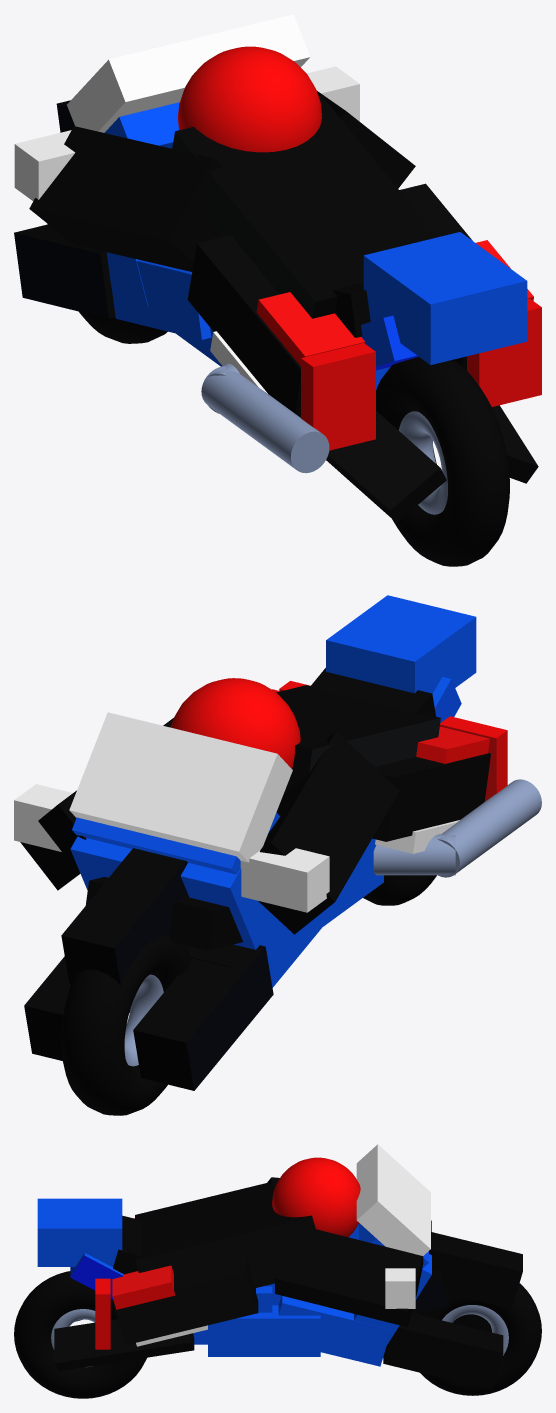
The picture shows the model from 3 angles, top to bottom: view 1: azimuth 30°, elevation 25°; view 2: azimuth 150°, elevation 25°; view 3: azimuth 270°, elevation 25°; orthographic projection. The views are drawn at different scales.
Visible parts, largest first — view 1: mesh_166_2, mesh_77, mesh_169_2, mesh_171, mesh_0_2 (×2), mesh_112, mesh_76_2, mesh_76, mesh_3_4, mesh_3_1_1, mesh_79_3, mesh_82 (+28 smaller); view 2: mesh_112_2, mesh_0, mesh_169_2, mesh_171, mesh_6_2, mesh_3_2, mesh_0_2, mesh_76_2, mesh_166_2, mesh_3_4, mesh_82, mesh_3_1 (×2) (+36 smaller); view 3: mesh_77, mesh_170_2, mesh_166_2, mesh_0_3_1, mesh_171, mesh_166_5, mesh_0, mesh_2_5, mesh_10_5, mesh_6_5, mesh_112_2, mesh_9_5 (+26 smaller).
Boxes of the visible parts, box(x1,y1,x2,y2) form: mesh_166_2: box(175, 95, 437, 301); mesh_77: box(376, 357, 509, 566); mesh_169_2: box(29, 126, 213, 241); mesh_171: box(178, 46, 322, 152); mesh_0_2 (×2): box(187, 183, 472, 413); mesh_112: box(109, 14, 310, 101); mesh_76_2: box(364, 232, 526, 304); mesh_76: box(430, 281, 527, 364); mesh_3_4: box(14, 232, 108, 318); mesh_3_1_1: box(313, 352, 375, 450); mesh_79_3: box(328, 411, 439, 510); mesh_82: box(201, 366, 321, 469); mesh_112_2: box(69, 712, 277, 851); mesh_0: box(61, 936, 191, 1115); mesh_169_2: box(271, 731, 399, 901); mesh_171: box(170, 678, 300, 768); mesh_6_2: box(61, 848, 185, 948); mesh_3_2: box(133, 944, 265, 1042); mesh_0_2: box(386, 753, 490, 841); mesh_76_2: box(326, 595, 475, 661); mesh_166_2: box(276, 685, 440, 749); mesh_3_4: box(186, 947, 273, 1090); mesh_82: box(437, 779, 541, 873); mesh_3_1 (×2): box(133, 724, 496, 1090); mesh_77: box(14, 1271, 146, 1398); mesh_170_2: box(275, 1223, 423, 1311); mesh_166_2: box(135, 1182, 311, 1259); mesh_0_3_1: box(114, 1273, 257, 1344); mesh_171: box(272, 1157, 360, 1237); mesh_166_5: box(135, 1217, 315, 1287); mesh_0: box(418, 1283, 541, 1395); mesh_2_5: box(383, 1328, 503, 1390); mesh_10_5: box(208, 1318, 320, 1356); mesh_6_5: box(429, 1249, 522, 1308); mesh_112_2: box(377, 1144, 430, 1248); mesh_9_5: box(278, 1303, 390, 1366).
Size of the model in its own units: 1.52 by 1.62 by 3.32.
